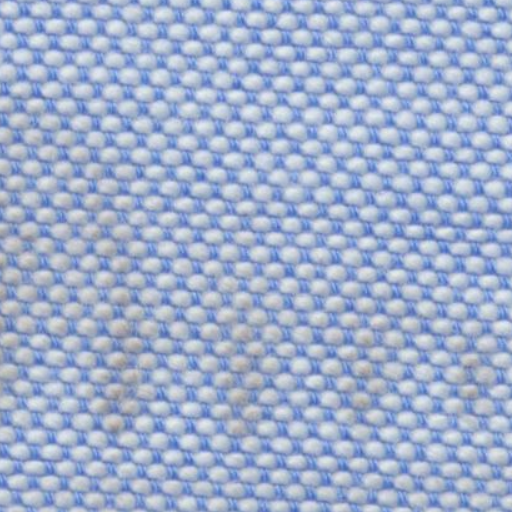WuZi: (6, 106, 496, 438)
